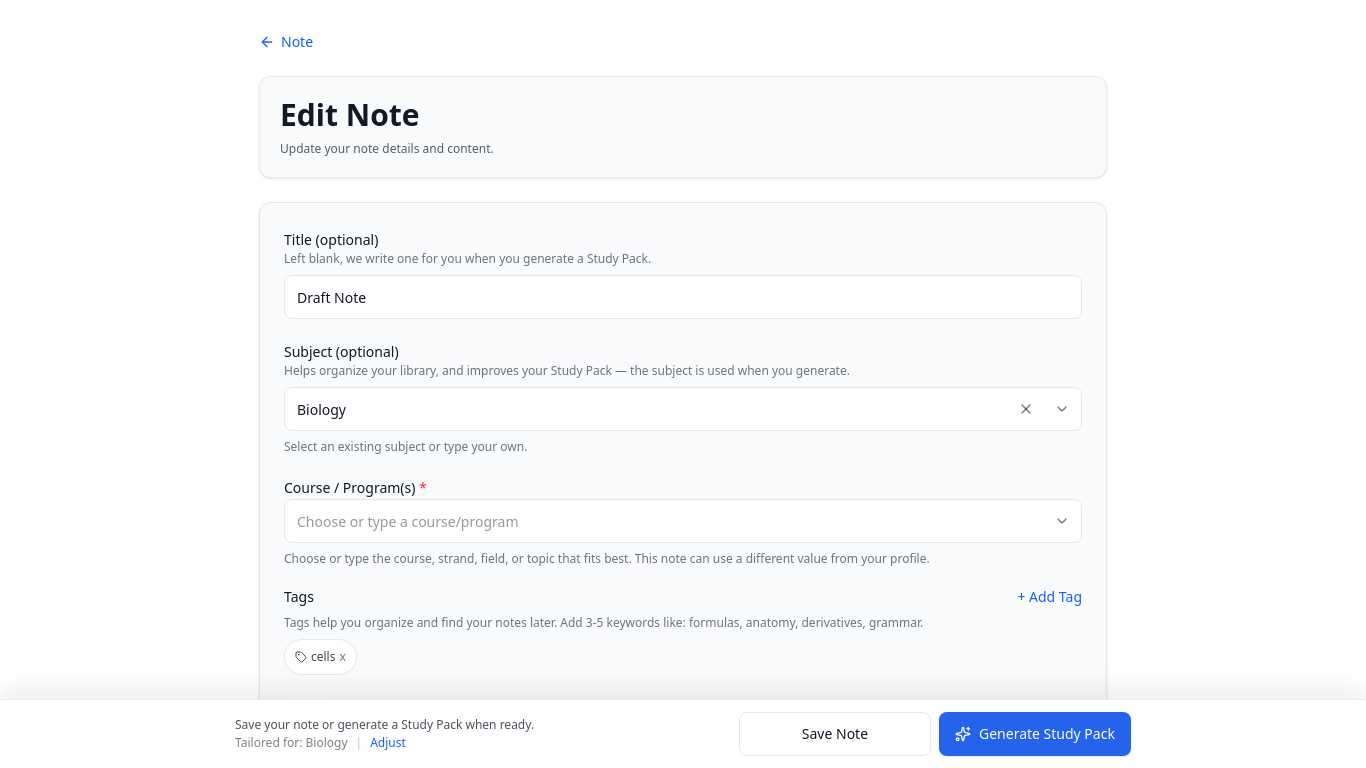
NoteEditorPageClient › does not submit the profile Course/Program when editing a note that has none
expect the field labelled "Course / Program(s) *" is empty: met, box [284,499,1082,543]
What coordinates should you click on to do the following:
click the button "Save Note"
I would click on:
 (835, 734)
Its box is [739,712,931,756].
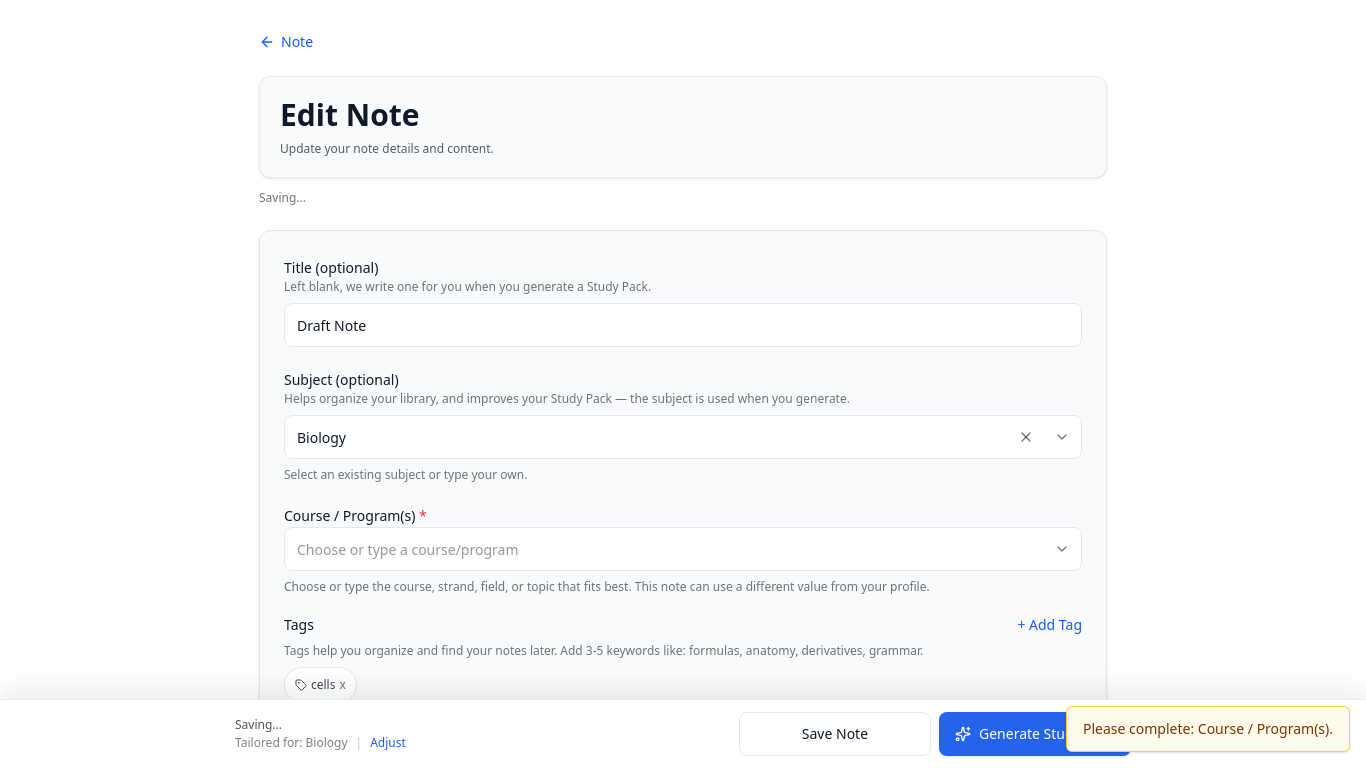
expect the text "Please complete: Course / Program(s)." is shown: met, box [1066,706,1350,752]
